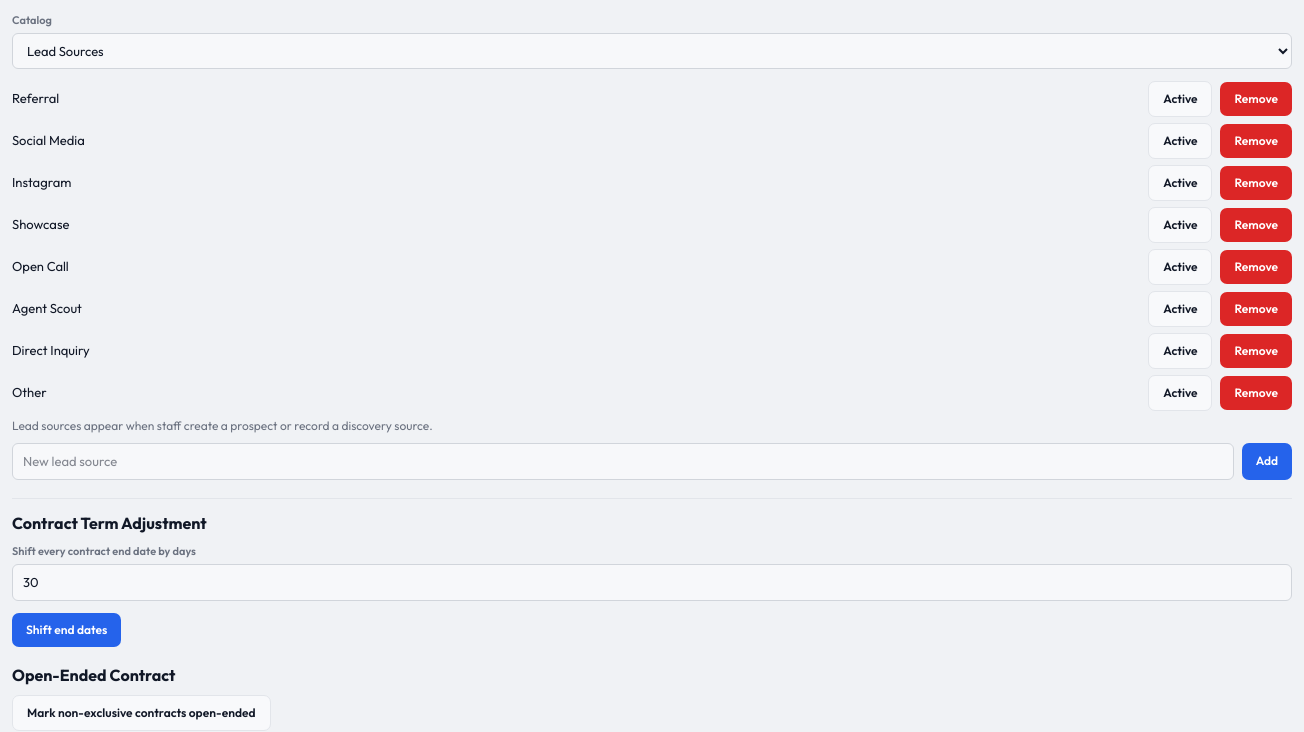
LookupCatalogs lead sources › lets an admin add a lead source that staff can select
Expected: the dropdown labelled "Catalog" shows "Lead Sources", [12,32,1292,68]
Expected: the text "Referral" is shown, [12,90,59,106]
Type "Campus Fair" into the field labelled "New lead source" at (623, 461), box [12,442,1234,480]
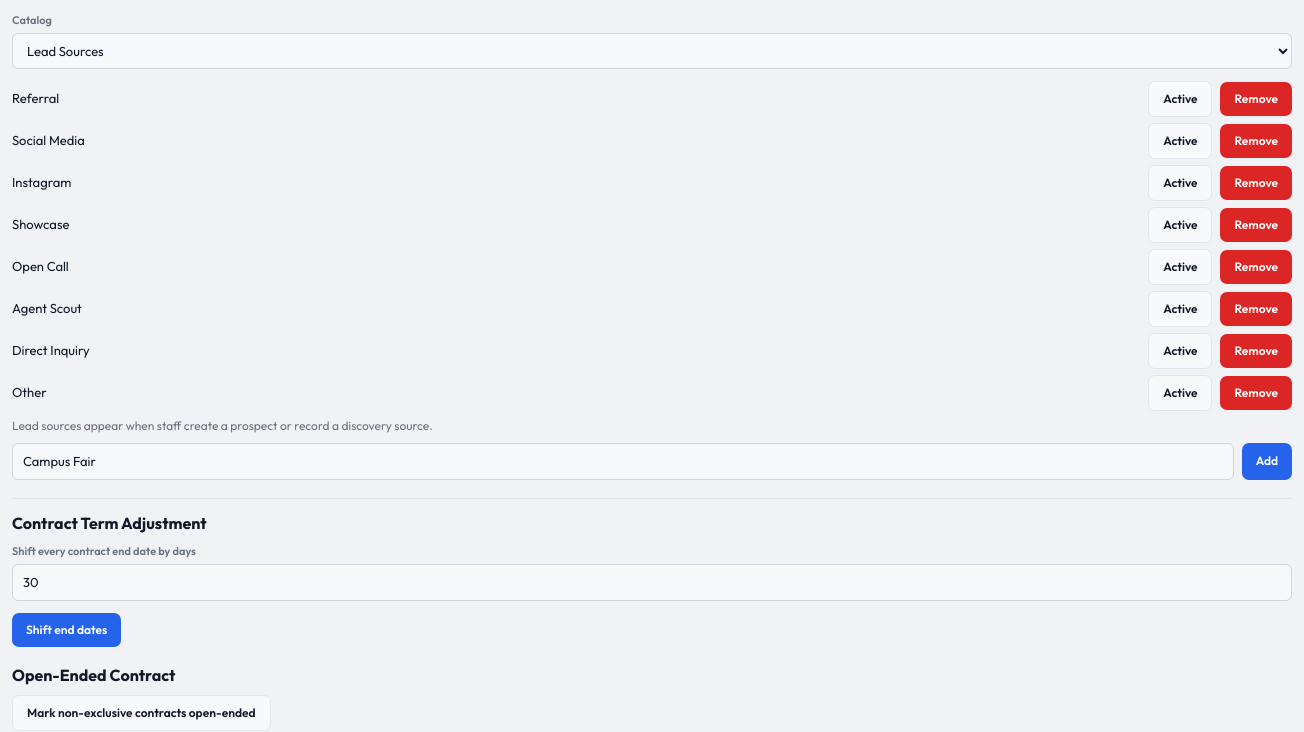
Click the button "Add" at (1267, 461), box [1242,442,1292,480]
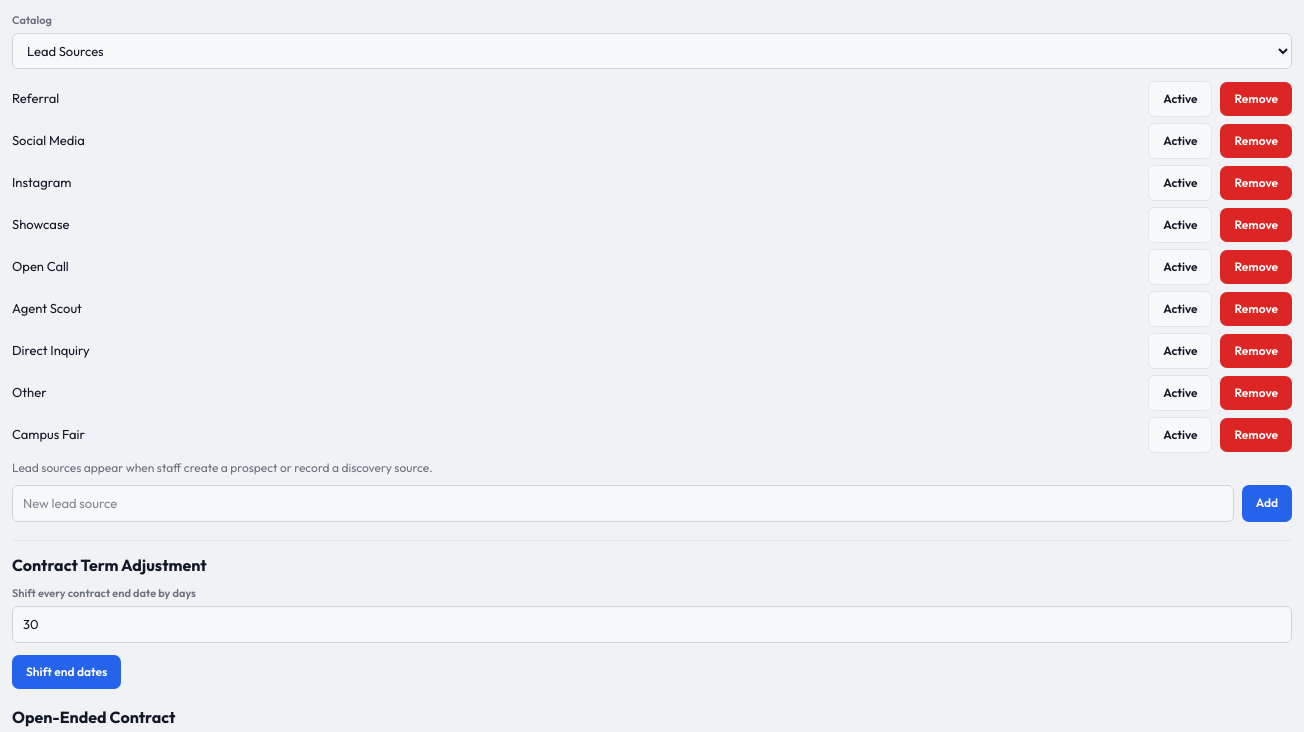
Expected: the text "Campus Fair" is shown, [12,426,85,442]
Type "campus fair" into the field labelled "New lead source" at (623, 503), box [12,484,1234,522]
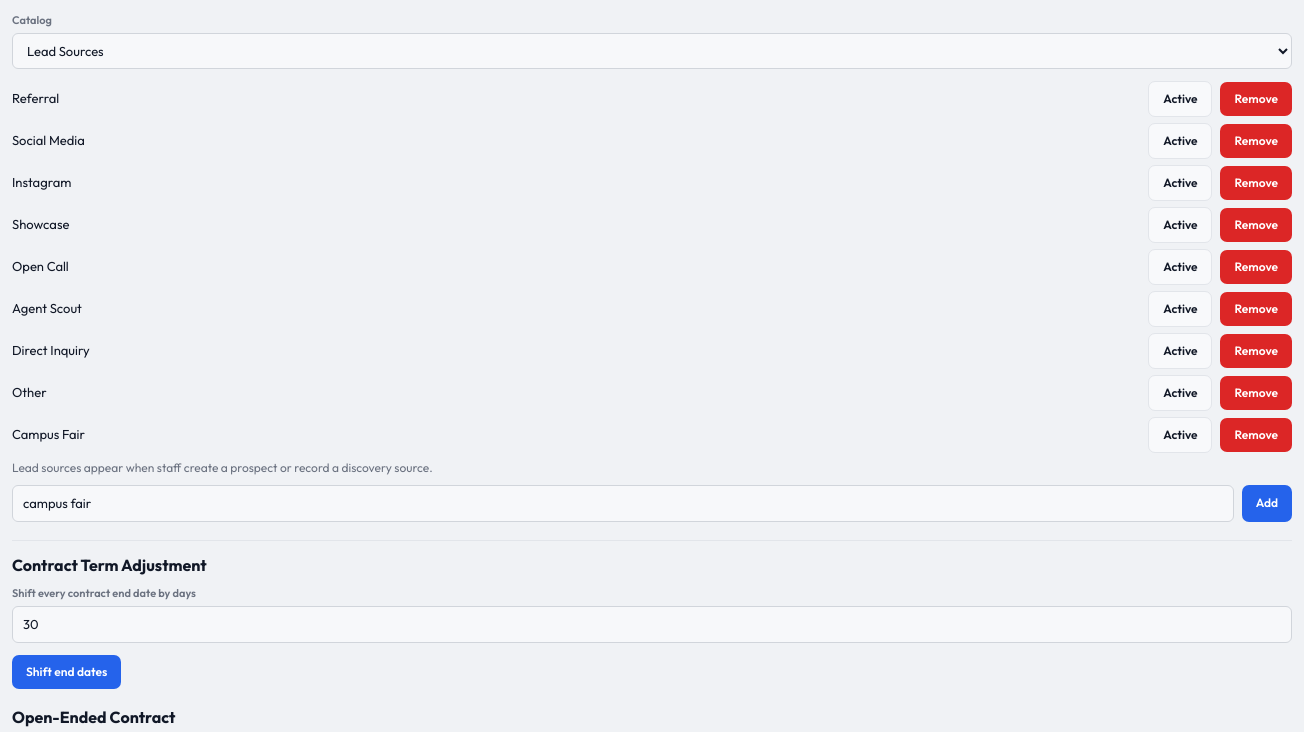
Click the button "Add" at (1267, 503), box [1242,484,1292,522]
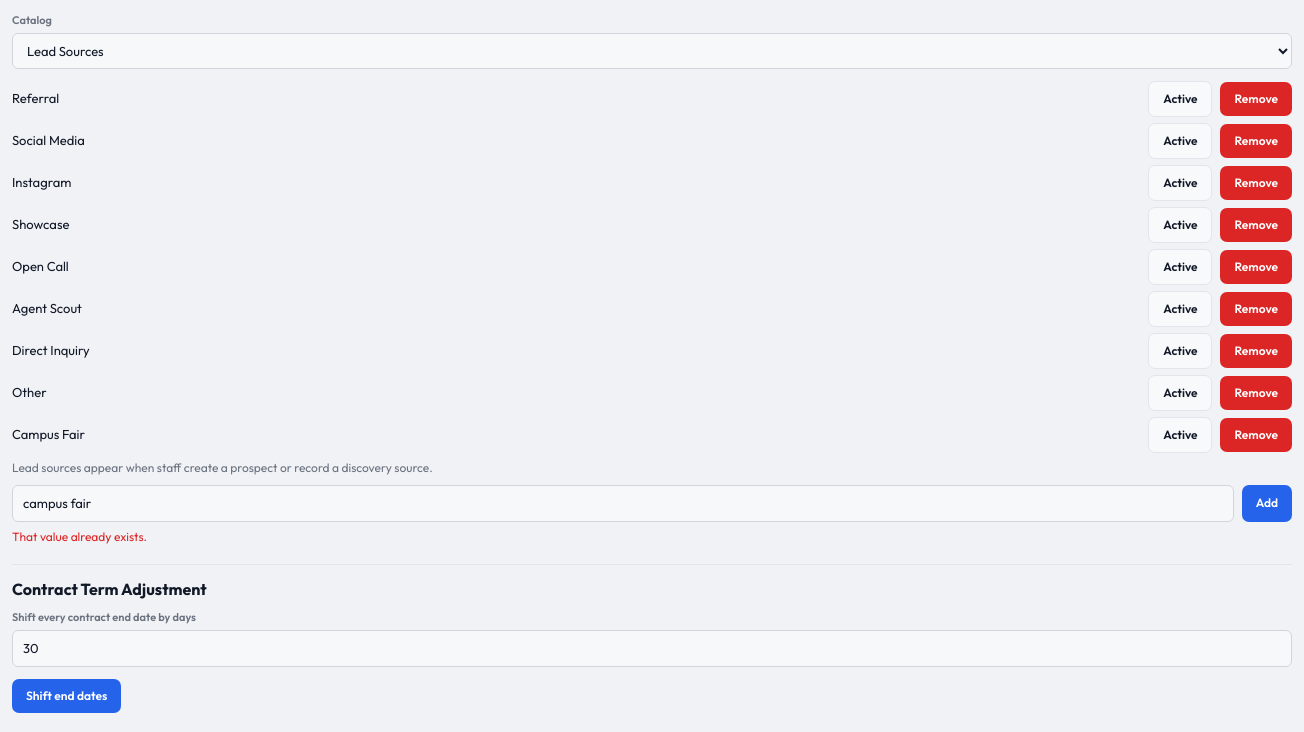
Expected: the text "That value already exists." is shown, [12,529,147,544]
